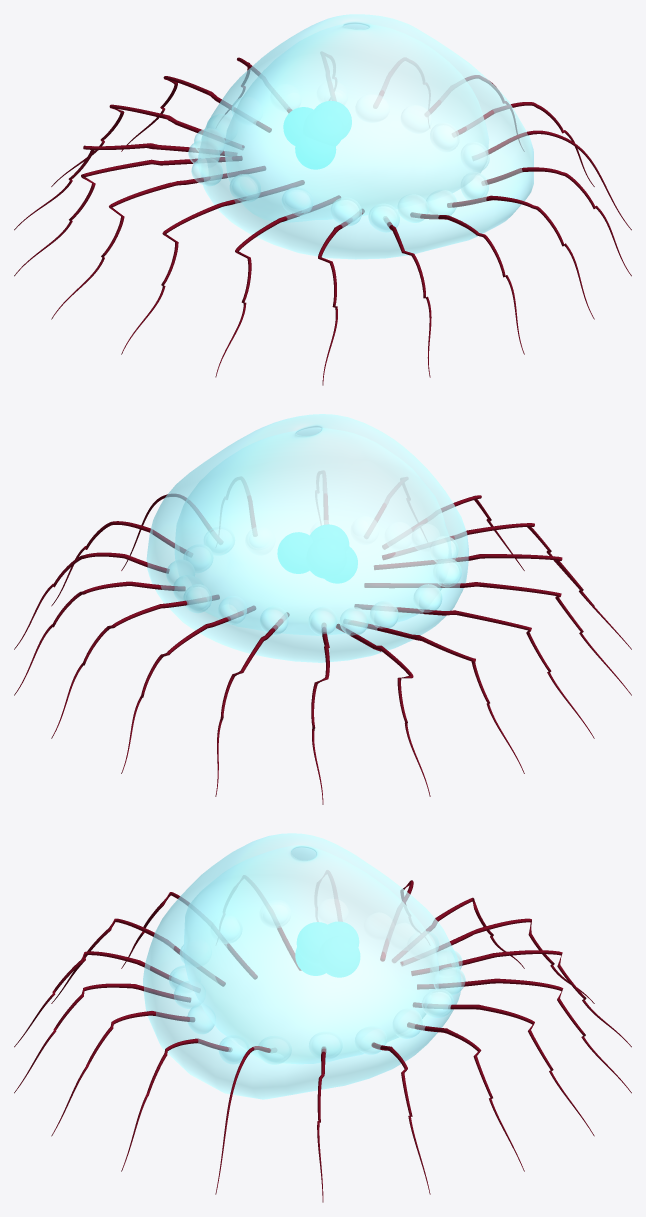
The model's file is Tentacle.glb.
The picture shows the model from 3 angles, top to bottom: view 1: azimuth 30°, elevation 25°; view 2: azimuth 150°, elevation 25°; view 3: azimuth 270°, elevation 25°; orthographic projection.
Parts seen in each view (by area): view 1: Body, leg_09_mesh, orb_11, leg_08_mesh, leg_10_mesh, orb_04, leg_07_mesh, leg_11_mesh, leg_06_mesh, leg_15_mesh, leg_16_mesh, leg_14_mesh (+17 smaller); view 2: Body, orb_08, leg_10_mesh, leg_11_mesh, orb_02, leg_09_mesh, leg_08_mesh, leg_03_mesh, leg_02_mesh, leg_07_mesh, leg_04_mesh, leg_12_mesh (+14 smaller); view 3: Body, orb_02, leg_04_mesh, leg_05_mesh, orb_11, leg_03_mesh, leg_14_mesh, leg_06_mesh, leg_13_mesh, leg_15_mesh, leg_02_mesh, leg_12_mesh (+12 smaller).
Part boxes in pixels (bbox=[...]): Body: bbox=[198, 14, 533, 259]; leg_09_mesh: bbox=[51, 166, 265, 319]; orb_11: bbox=[303, 109, 343, 146]; leg_08_mesh: bbox=[14, 156, 242, 276]; leg_10_mesh: bbox=[121, 180, 304, 354]; orb_04: bbox=[295, 135, 335, 169]; leg_07_mesh: bbox=[14, 143, 236, 230]; leg_11_mesh: bbox=[215, 195, 340, 377]; leg_06_mesh: bbox=[51, 104, 244, 186]; leg_15_mesh: bbox=[447, 195, 594, 319]; leg_16_mesh: bbox=[482, 167, 631, 276]; leg_14_mesh: bbox=[410, 212, 524, 354]; Body: bbox=[146, 414, 468, 662]; orb_08: bbox=[306, 538, 346, 578]; leg_10_mesh: bbox=[364, 582, 631, 695]; leg_11_mesh: bbox=[374, 554, 631, 649]; orb_02: bbox=[277, 532, 312, 573]; leg_09_mesh: bbox=[354, 604, 594, 738]; leg_08_mesh: bbox=[348, 621, 524, 773]; leg_03_mesh: bbox=[51, 595, 219, 738]; leg_02_mesh: bbox=[14, 581, 185, 695]; leg_07_mesh: bbox=[336, 624, 430, 796]; leg_04_mesh: bbox=[121, 606, 255, 773]; leg_12_mesh: bbox=[382, 523, 594, 605]; Body: bbox=[143, 833, 461, 1099]; orb_02: bbox=[319, 936, 359, 977]; leg_04_mesh: bbox=[417, 978, 631, 1093]; leg_05_mesh: bbox=[411, 950, 631, 1047]; orb_11: bbox=[297, 922, 334, 963]; leg_03_mesh: bbox=[413, 1002, 594, 1136]; leg_14_mesh: bbox=[14, 983, 190, 1093]; leg_06_mesh: bbox=[400, 918, 594, 1003]; leg_13_mesh: bbox=[14, 951, 182, 1047]; leg_15_mesh: bbox=[51, 1011, 194, 1136]; leg_02_mesh: bbox=[407, 1022, 524, 1171]; leg_12_mesh: bbox=[51, 918, 225, 1003].
Bounding box in the file's own units: 1.69 × 0.6934 × 1.67.
